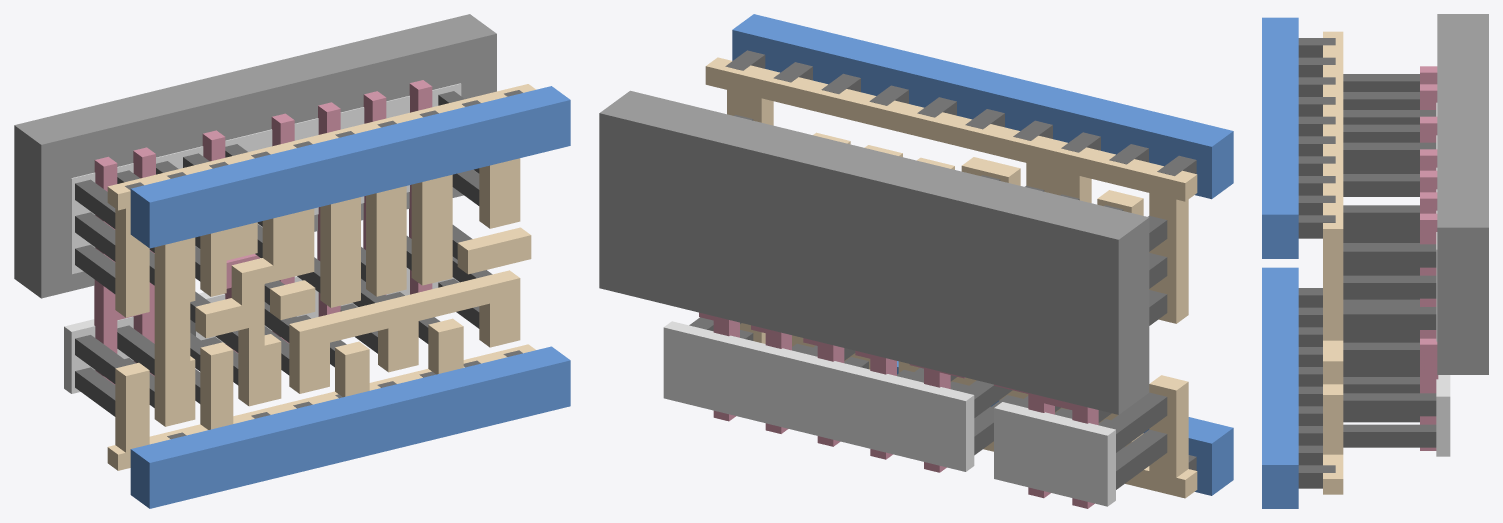
The model's file is sky130_fd_sc_hd__o41a_2.gds.gltf.
3 views of the same model, side by side, from view 1: azimuth 30°, elevation 25°; view 2: azimuth 150°, elevation 25°; view 3: azimuth 270°, elevation 25° (orthographic). The views are drawn at different scales.
Visible parts, largest first — view 1: sky130_fd_sc_hd__o41a_2_li1, sky130_fd_sc_hd__o41a_2_met1, sky130_fd_sc_hd__o41a_2_nwell, sky130_fd_sc_hd__o41a_2_licon, sky130_fd_sc_hd__o41a_2_poly, sky130_fd_sc_hd__o41a_2_diff, sky130_fd_sc_hd__o41a_2_mcon; view 2: sky130_fd_sc_hd__o41a_2_nwell, sky130_fd_sc_hd__o41a_2_diff, sky130_fd_sc_hd__o41a_2_li1, sky130_fd_sc_hd__o41a_2_met1, sky130_fd_sc_hd__o41a_2_licon, sky130_fd_sc_hd__o41a_2_mcon, sky130_fd_sc_hd__o41a_2_poly; view 3: sky130_fd_sc_hd__o41a_2_licon, sky130_fd_sc_hd__o41a_2_nwell, sky130_fd_sc_hd__o41a_2_met1, sky130_fd_sc_hd__o41a_2_mcon, sky130_fd_sc_hd__o41a_2_li1, sky130_fd_sc_hd__o41a_2_poly, sky130_fd_sc_hd__o41a_2_diff.
Part boxes in pixels (x1,y1,x2,y2): sky130_fd_sc_hd__o41a_2_li1: [107, 84, 535, 470]; sky130_fd_sc_hd__o41a_2_met1: [130, 86, 570, 508]; sky130_fd_sc_hd__o41a_2_nwell: [14, 14, 496, 298]; sky130_fd_sc_hd__o41a_2_licon: [75, 91, 492, 416]; sky130_fd_sc_hd__o41a_2_poly: [94, 80, 432, 384]; sky130_fd_sc_hd__o41a_2_diff: [64, 83, 461, 393]; sky130_fd_sc_hd__o41a_2_mcon: [125, 90, 522, 439]; sky130_fd_sc_hd__o41a_2_nwell: [599, 90, 1149, 414]; sky130_fd_sc_hd__o41a_2_diff: [663, 321, 1115, 506]; sky130_fd_sc_hd__o41a_2_li1: [705, 57, 1197, 498]; sky130_fd_sc_hd__o41a_2_met1: [732, 14, 1233, 495]; sky130_fd_sc_hd__o41a_2_licon: [689, 115, 1167, 489]; sky130_fd_sc_hd__o41a_2_mcon: [725, 50, 1196, 470]; sky130_fd_sc_hd__o41a_2_poly: [699, 312, 1098, 508]; sky130_fd_sc_hd__o41a_2_licon: [1343, 74, 1436, 447]; sky130_fd_sc_hd__o41a_2_nwell: [1437, 14, 1488, 374]; sky130_fd_sc_hd__o41a_2_met1: [1262, 17, 1298, 508]; sky130_fd_sc_hd__o41a_2_mcon: [1298, 38, 1335, 488]; sky130_fd_sc_hd__o41a_2_li1: [1323, 31, 1343, 494]; sky130_fd_sc_hd__o41a_2_poly: [1420, 66, 1438, 450]; sky130_fd_sc_hd__o41a_2_diff: [1436, 102, 1450, 456].
Bounding box in the file's own units: 4.98 × 3.2 × 2.24.
